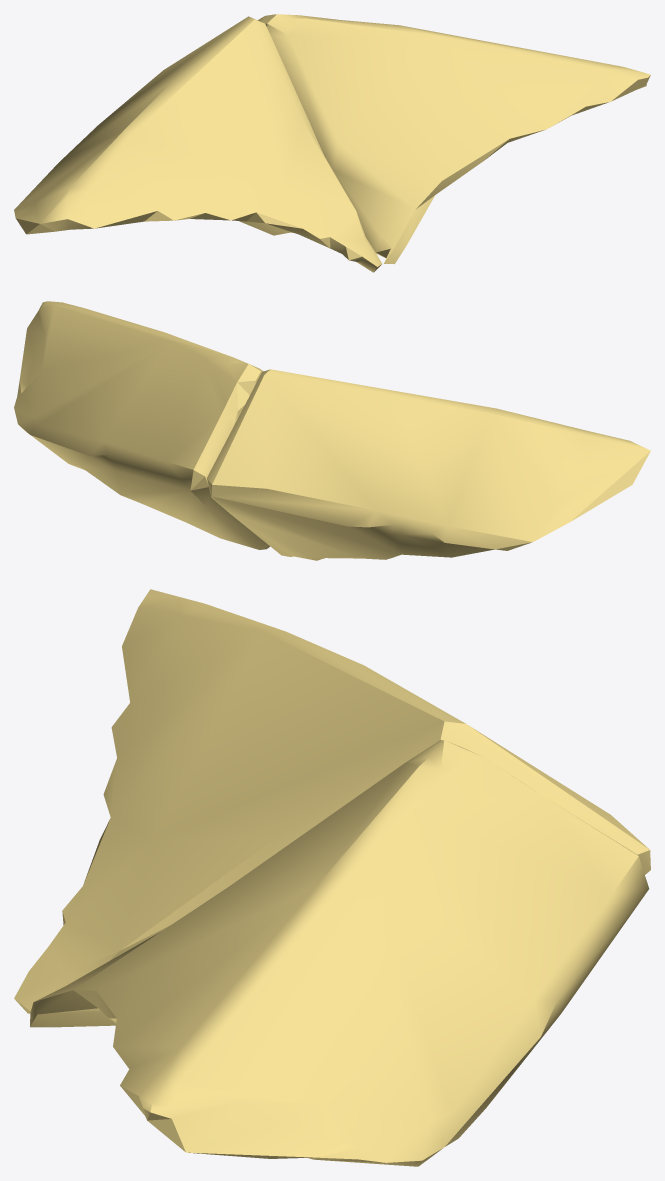
File: fma83740.glb
The picture shows the model from 3 angles, top to bottom: view 1: azimuth 30°, elevation 25°; view 2: azimuth 150°, elevation 25°; view 3: azimuth 270°, elevation 25°; orthographic projection. The views are drawn at different scales.
Visible parts, largest first — view 1: FMA83740; view 2: FMA83740; view 3: FMA83740.
Boxes of the visible parts, left/top/right/bottom form: FMA83740: left=14, top=14, right=650, bottom=272; FMA83740: left=14, top=301, right=650, bottom=560; FMA83740: left=14, top=589, right=650, bottom=1166.
Bounding box in the file's own units: 0.0045 × 0.00141 × 0.00229.
